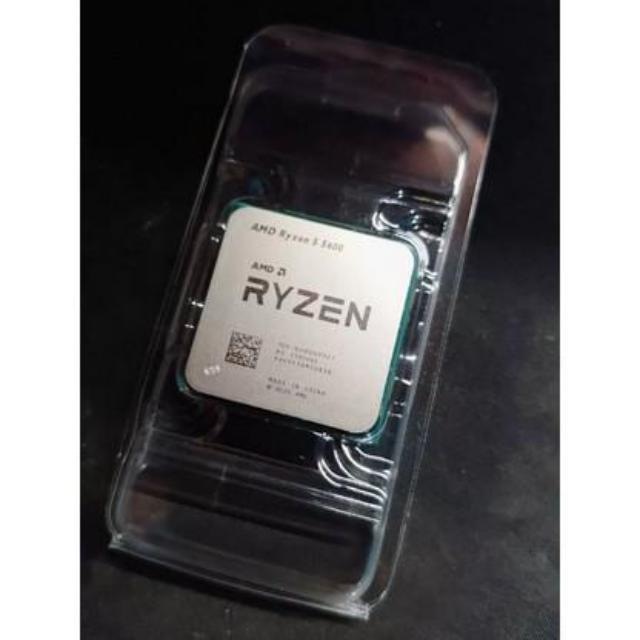CPU: (180, 198, 418, 438)
